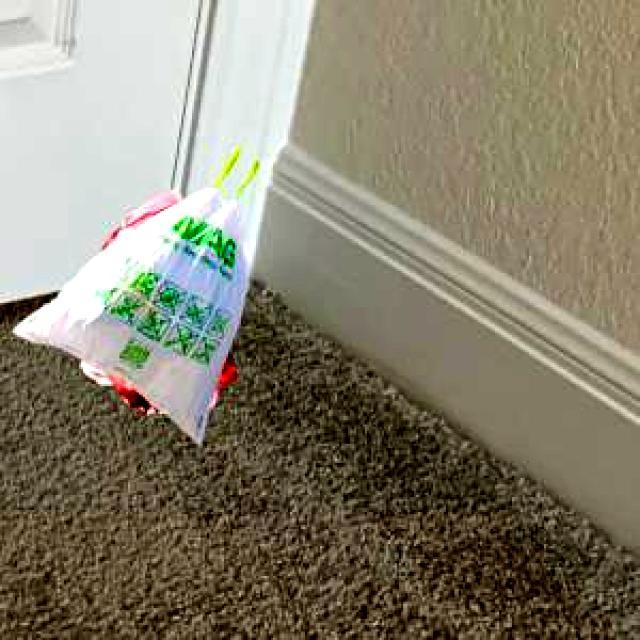Plastic_Bag: (10, 144, 244, 441), (75, 184, 234, 410)
